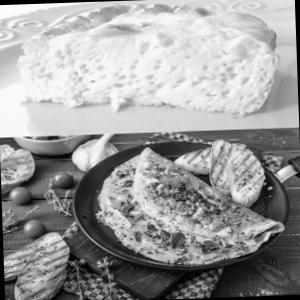omelet: (10, 0, 274, 123), (82, 129, 266, 273)
